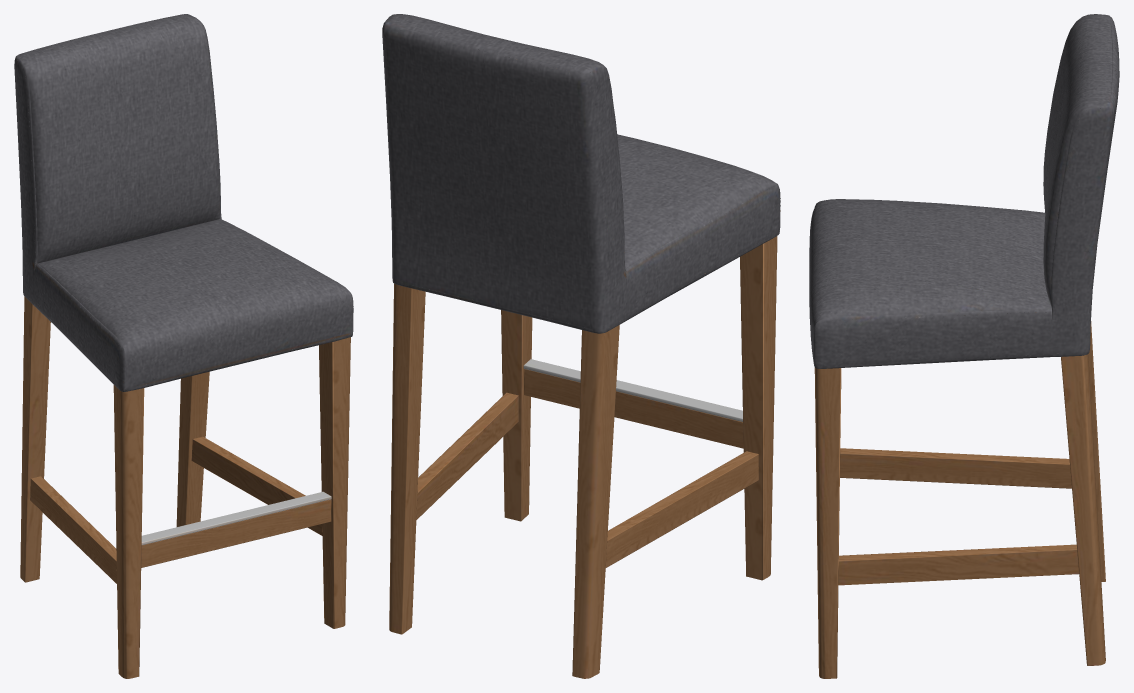
File: bergmund_stoek_barowy_z_oparciem_19384705.glb
3 renders of one model, left to right at view 1: azimuth 30°, elevation 25°; view 2: azimuth 150°, elevation 25°; view 3: azimuth 270°, elevation 25°, orthographic. The views are drawn at different scales.
Parts seen in each view (by area): view 1: bergmund_stoek_barowy_z_oparciem_19384705; view 2: bergmund_stoek_barowy_z_oparciem_19384705; view 3: bergmund_stoek_barowy_z_oparciem_19384705.
Boxes of the visible parts, bbox=[...] form: bergmund_stoek_barowy_z_oparciem_19384705: bbox=[14, 14, 353, 678]; bergmund_stoek_barowy_z_oparciem_19384705: bbox=[382, 14, 780, 678]; bergmund_stoek_barowy_z_oparciem_19384705: bbox=[809, 14, 1119, 678].
Bounding box in the file's own units: 0.4543 × 0.9747 × 0.4865.
1 material, 1 textured.
